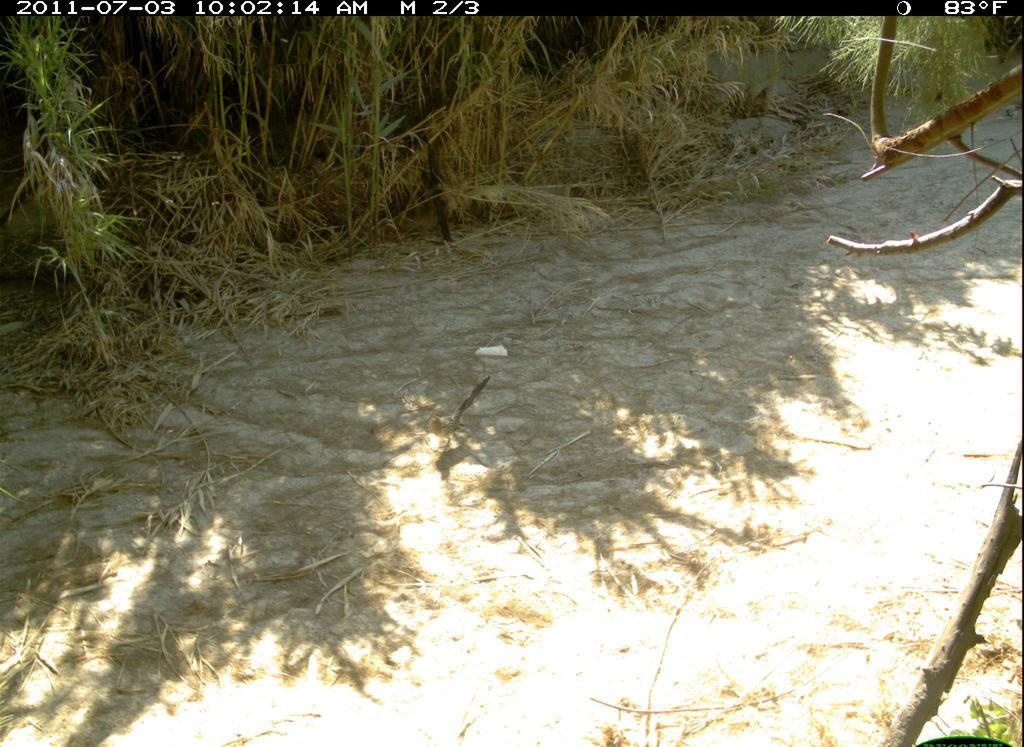bird: (420, 374, 495, 459)
